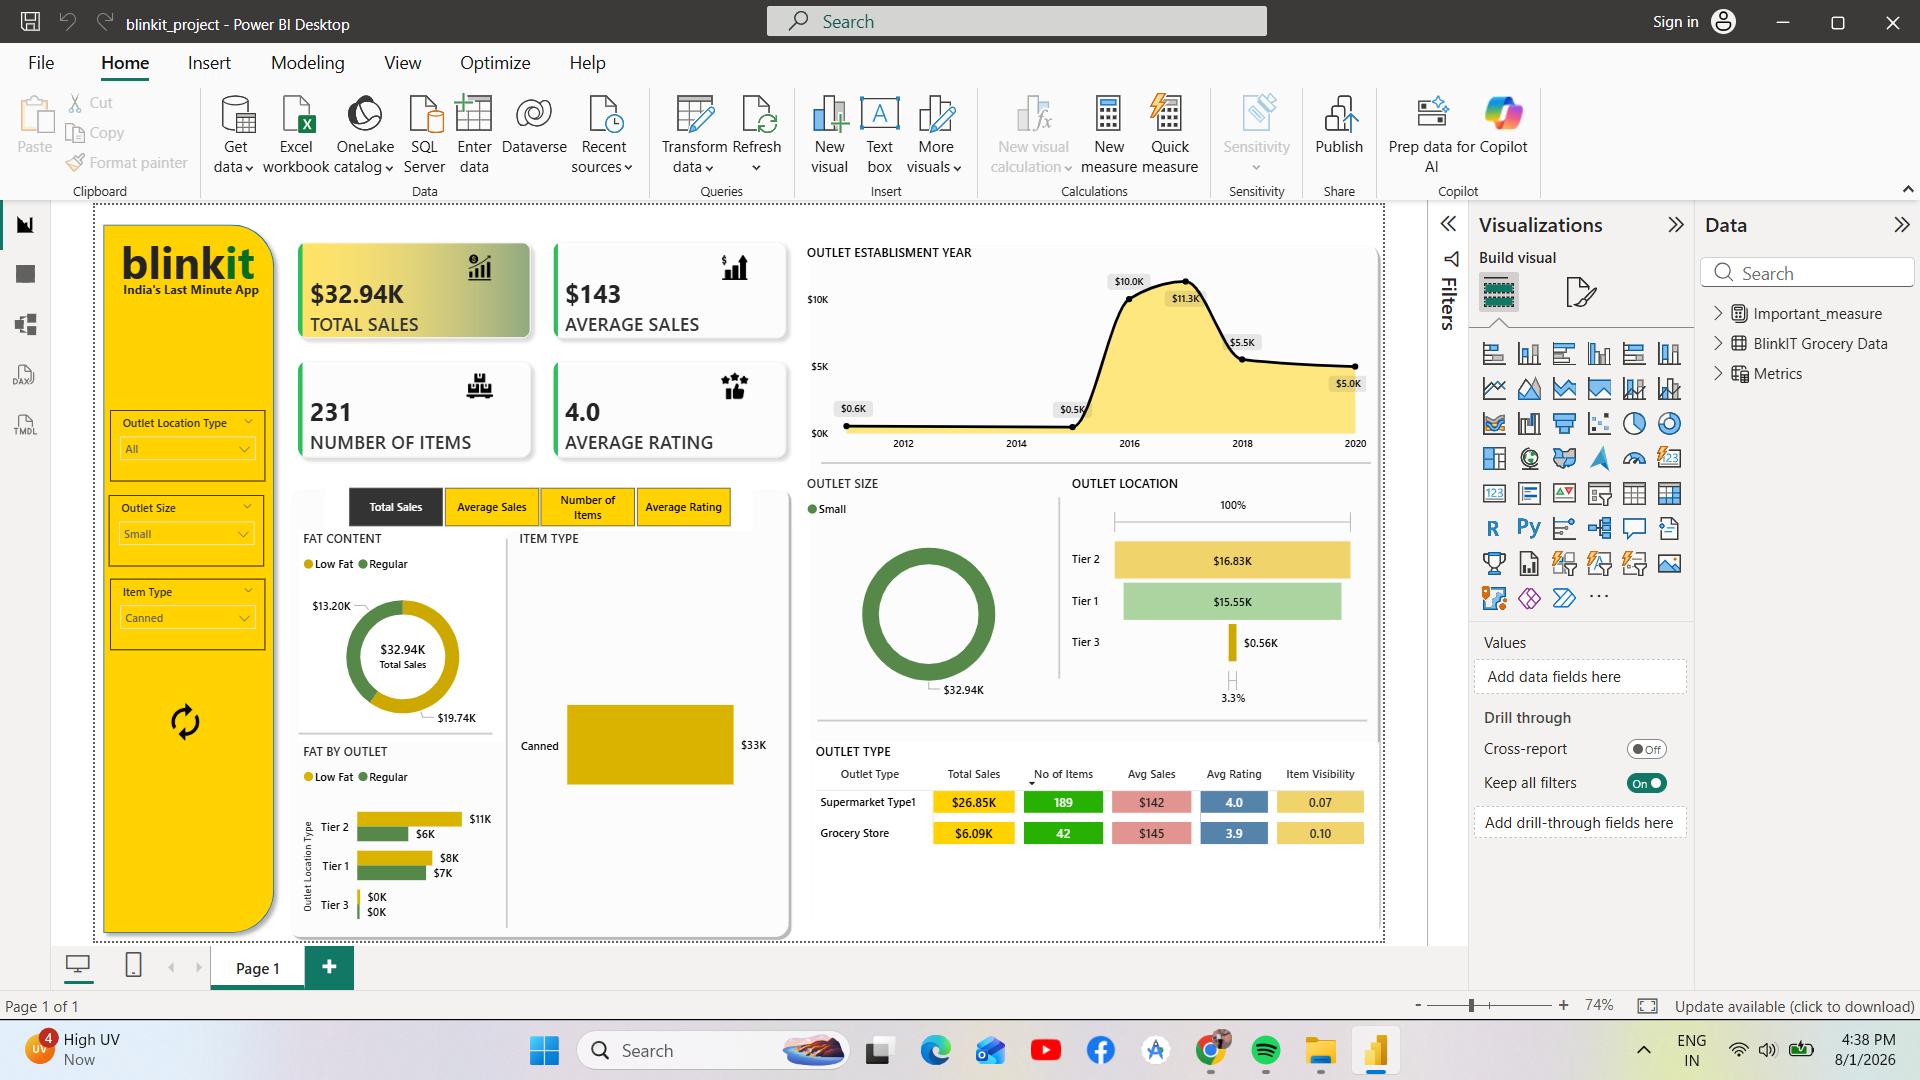

The dashboard page shown, as its layout file describes it:
{"tool":"powerbi","page":{"name":"Page 1","canvas":[1400,800],"ordinal":0},"visuals":[{"type":"shape","box":[0,12.1,203.8,788.2],"z":0},{"type":"textbox","box":[18,22.5,166.6,84],"z":1000},{"type":"textbox","box":[25.5,78,159.1,37.5],"z":2000},{"type":"cardVisual","fields":{"Data":["Important_measure.Total Sales","Important_measure.Average Sales","Important_measure.Number of Items","Important_measure.Average Rating"]},"box":[203.8,22.8,565.7,269.4],"z":3000},{"type":"shape","box":[203.8,300.3,555,500],"z":4000},{"type":"donutChart","title":"FAT CONTENT","fields":{"Y":["Important_measure.Total Sales"],"Category":["BlinkIT Grocery Data.Item Fat Content"]},"box":[221.2,353.9,226.5,230.6],"z":5000},{"type":"slicer","fields":{"Values":["Metrics.Metrics"]},"box":[249.3,300.3,465.1,53.6],"z":6000},{"type":"cardVisual","fields":{"Data":["Important_measure.Total Sales"]},"box":[269.4,457.1,131.4,67],"z":7000},{"type":"clusteredBarChart","title":"FAT BY OUTLET","fields":{"Y":["Important_measure.Total Sales"],"Category":["BlinkIT Grocery Data.Outlet Location Type"],"Series":["BlinkIT Grocery Data.Item Fat Content"]},"box":[221.2,584.5,226.5,215.8],"z":8000},{"type":"shape","box":[221.2,565.7,210.5,18.8],"z":9000},{"type":"shape","box":[437,363.3,20.1,423.6],"z":10000},{"type":"barChart","title":"ITEM TYPE","fields":{"Y":["Important_measure.Total Sales"],"Category":["BlinkIT Grocery Data.Item Type"]},"box":[457.1,353.9,292.2,446.4],"z":11000},{"type":"shape","box":[769.4,33.5,630,766.8],"z":12000},{"type":"lineChart","title":"OUTLET ESTABLISMENT YEAR","fields":{"Category":["BlinkIT Grocery Data.Outlet Establishment Year"],"Y":["Important_measure.Total Sales"]},"box":[769.4,41.6,618,234.6],"z":13000},{"type":"shape","box":[789.5,276.1,597.9,9.4],"z":14000},{"type":"donutChart","title":"OUTLET SIZE","fields":{"Y":["Important_measure.Total Sales"],"Category":["BlinkIT Grocery Data.Outlet Size"]},"box":[769.4,293.6,274.8,257.4],"z":15000},{"type":"shape","box":[1037.5,317.7,20.1,197.1],"z":16000},{"type":"funnel","title":"OUTLET LOCATION","fields":{"Y":["Important_measure.Total Sales"],"Category":["BlinkIT Grocery Data.Outlet Location Type"]},"box":[1057.6,293.6,317.7,257.4],"z":17000},{"type":"shape","box":[785.5,556.3,597.9,9.4],"z":18000},{"type":"pivotTable","title":"OUTLET TYPE","fields":{"Rows":["BlinkIT Grocery Data.Outlet Type"],"Values":["Important_measure.Total Sales","Important_measure.Number of Items","Important_measure.Average Sales","Important_measure.Average Rating","Avg(BlinkIT Grocery Data.Item Visibility)"]},"box":[778.8,584.5,618,215.8],"z":19000},{"type":"slicer","fields":{"Values":["BlinkIT Grocery Data.Outlet Location Type"]},"box":[16.1,222.5,168.9,77.7],"z":20000},{"type":"slicer","fields":{"Values":["BlinkIT Grocery Data.Outlet Size"]},"box":[14.7,315,168.9,77.7],"z":21000},{"type":"slicer","fields":{"Values":["BlinkIT Grocery Data.Item Type"]},"box":[16.1,406.2,168.9,77.7],"z":22000},{"type":"image","box":[77.7,538.9,41.6,44.2],"z":23000}]}

Visuals, with their boxes on the page's 1400x800 design canvas (x1, y1, x2, y2). These are canvas units, not pixel positions in the 1920x1080 screenshot, which may show the page scaled, cropped or inside an application window:
shape: 0:12:204:800
textbox: 18:22:185:106
textbox: 26:78:185:116
cardVisual - Important_measure.Total Sales x Important_measure.Average Sales: 204:23:770:292
shape: 204:300:759:800
"FAT CONTENT" donutChart: 221:354:448:584
slicer - Metrics.Metrics: 249:300:714:354
cardVisual - Important_measure.Total Sales: 269:457:401:524
"FAT BY OUTLET" clusteredBarChart: 221:584:448:800
shape: 221:566:432:584
shape: 437:363:457:787
"ITEM TYPE" barChart: 457:354:749:800
shape: 769:34:1399:800
"OUTLET ESTABLISMENT YEAR" lineChart: 769:42:1387:276
shape: 790:276:1387:286
"OUTLET SIZE" donutChart: 769:294:1044:551
shape: 1038:318:1058:515
"OUTLET LOCATION" funnel: 1058:294:1375:551
shape: 786:556:1383:566
"OUTLET TYPE" pivotTable: 779:584:1397:800
slicer - BlinkIT Grocery Data.Outlet Location Type: 16:222:185:300
slicer - BlinkIT Grocery Data.Outlet Size: 15:315:184:393
slicer - BlinkIT Grocery Data.Item Type: 16:406:185:484
image: 78:539:119:583
